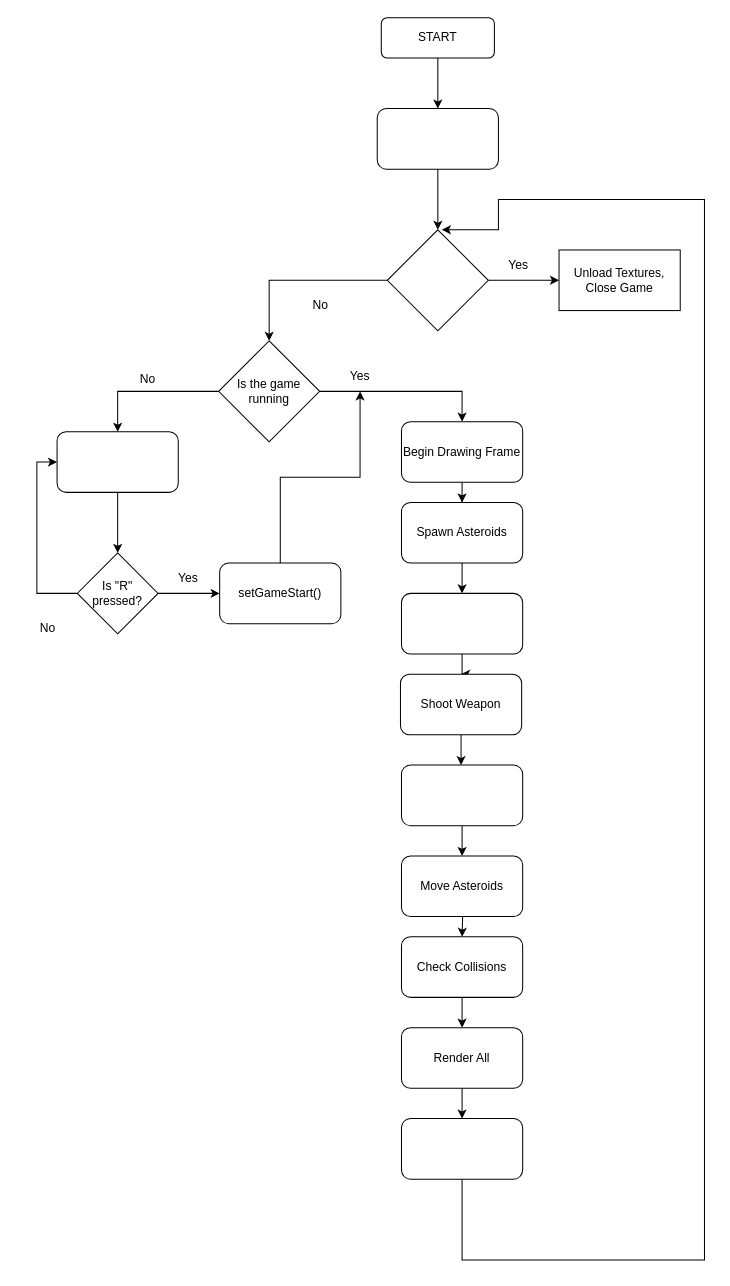
This 730x1286 diagram has some shape labels left out. Here are the shapes that lost their labels. From the top down, the box of each, then its label:
(376, 108, 498, 169): Init Window, Load Textures. setGameStart()
(386, 229, 488, 331): Window should close?
(56, 431, 178, 492): Game over screen
(400, 592, 523, 654): Move Ship
(400, 764, 523, 826): Move Projectiles
(400, 1118, 523, 1179): Next Frame
